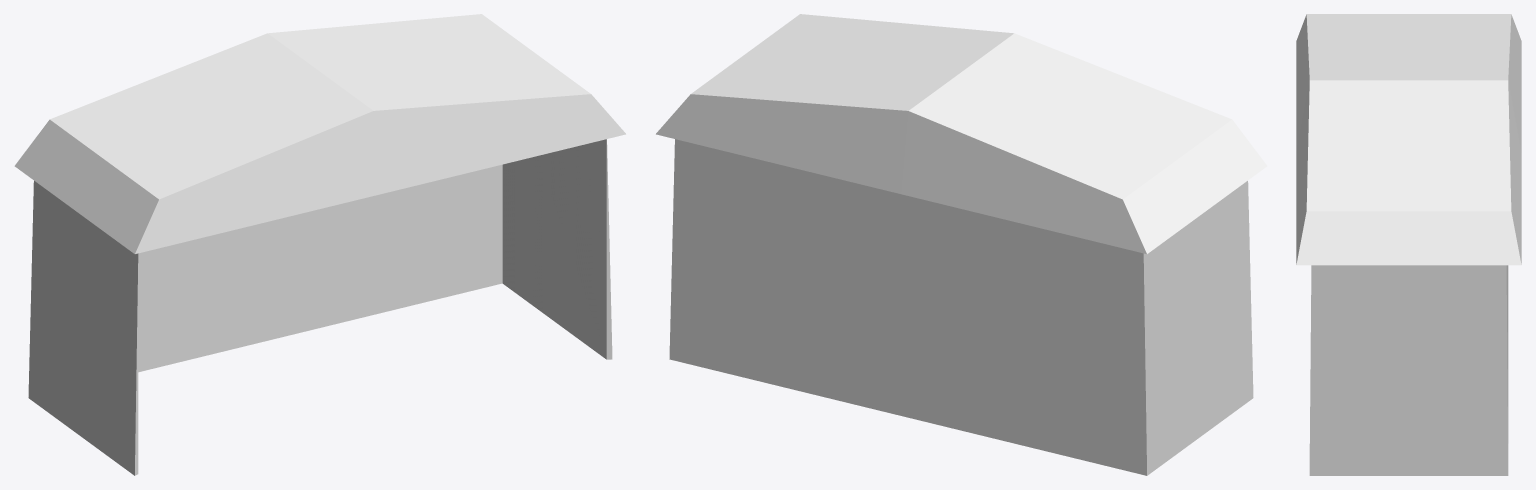
Rendered from busStop.glb.
The picture shows the model from 3 angles, left to right: view 1: azimuth 30°, elevation 25°; view 2: azimuth 150°, elevation 25°; view 3: azimuth 270°, elevation 25°; orthographic projection. The views are drawn at different scales.
Visible parts, largest first — view 1: bus_Stop; view 2: bus_Stop; view 3: bus_Stop.
Boxes of the visible parts, box(x1,y1,x2,y2) form: bus_Stop: box(14, 14, 625, 475); bus_Stop: box(656, 14, 1267, 475); bus_Stop: box(1296, 14, 1521, 475).
Bounding box in the file's own units: 4.17 × 2.49 × 1.77.
1 material, 1 textured.
